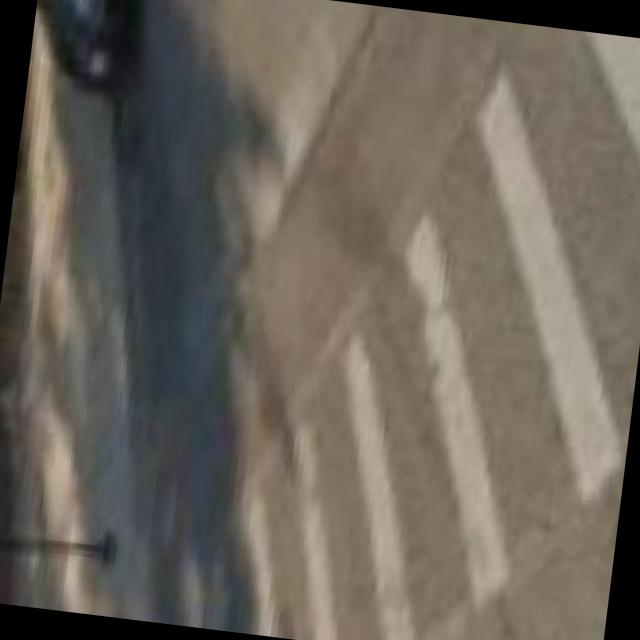zebra: (143, 23, 640, 640)
